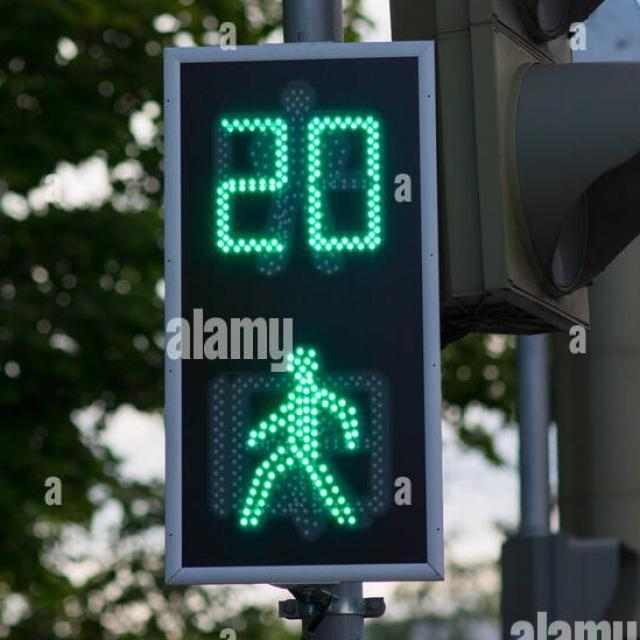green-light: (251, 350, 361, 539)
